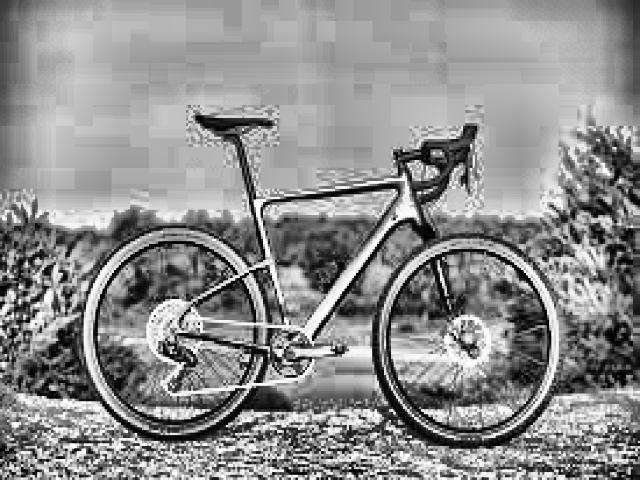cassette: (146, 296, 205, 360)
cranks_set: (266, 324, 348, 380)
pedal: (329, 337, 350, 359)
saddle: (154, 338, 199, 394), (194, 112, 277, 140)
sti_shifter: (460, 120, 483, 192)
wheel: (80, 223, 270, 442), (369, 235, 567, 445)
